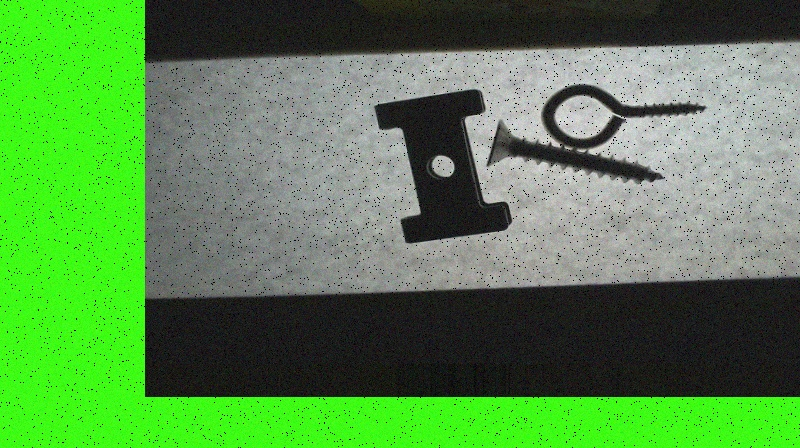O001: (536, 80, 709, 151)
O002: (368, 86, 515, 244)
S001: (483, 119, 669, 184)
